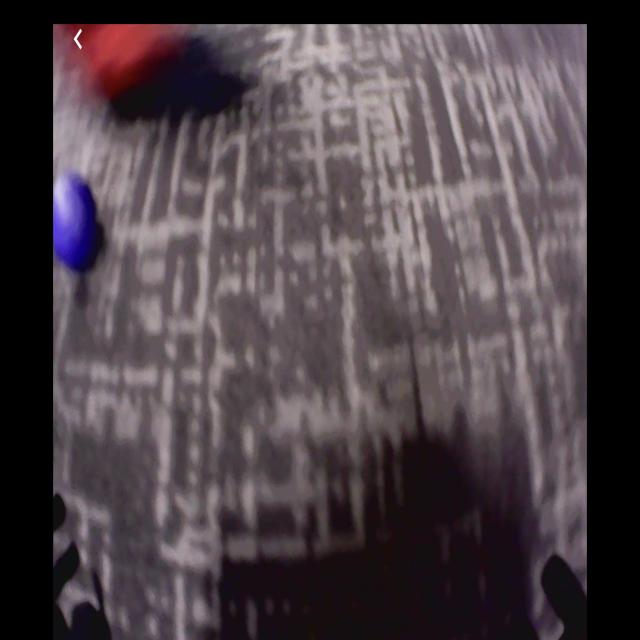ball: (55, 173, 101, 266)
